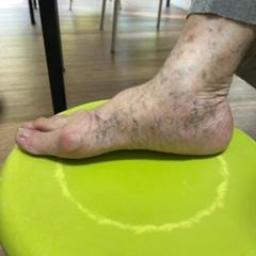Medial View -Right Foot-: (4, 36, 249, 173)
